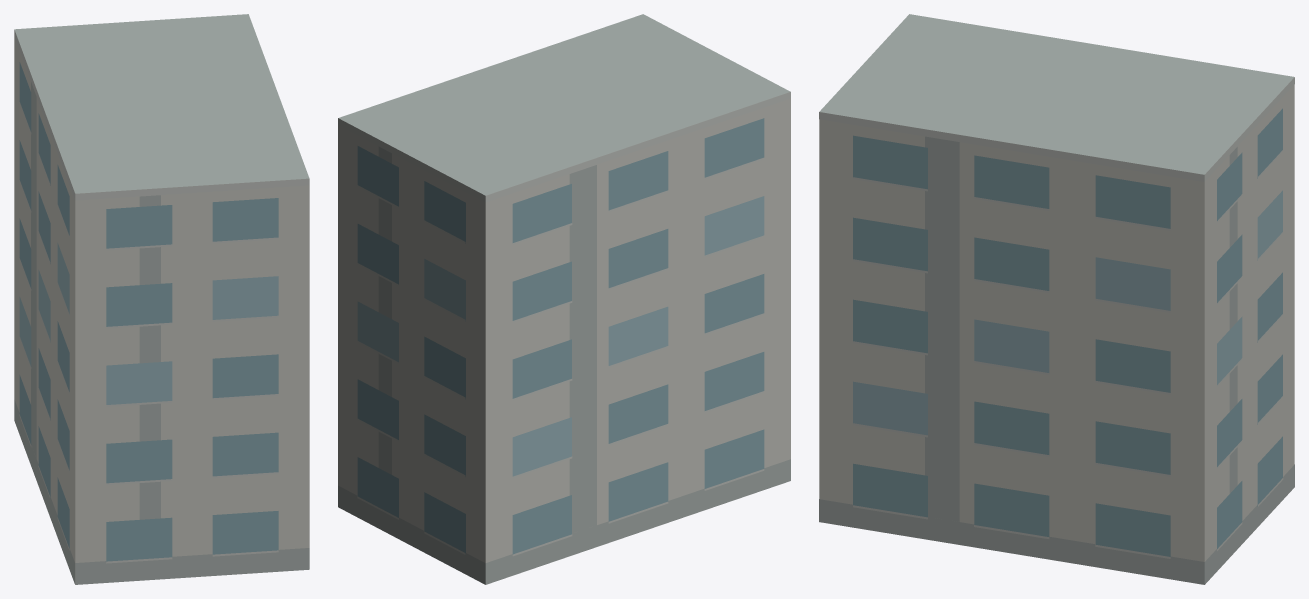
Rendered from survey-upis-32877577.glb.
The picture shows the model from 3 angles, left to right: view 1: azimuth 30°, elevation 25°; view 2: azimuth 150°, elevation 25°; view 3: azimuth 270°, elevation 25°; orthographic projection. The views are drawn at different scales.
Parts seen in each view (by area): view 1: survey-upis-32877577.tmp; view 2: survey-upis-32877577.tmp; view 3: survey-upis-32877577.tmp.
Boxes of the visible parts, x1=… form: survey-upis-32877577.tmp: x1=14, y1=14, x2=309, y2=584; survey-upis-32877577.tmp: x1=338, y1=14, x2=790, y2=584; survey-upis-32877577.tmp: x1=819, y1=14, x2=1294, y2=584.
Bounding box in the file's own units: 11.53 × 13.7 × 14.41.
